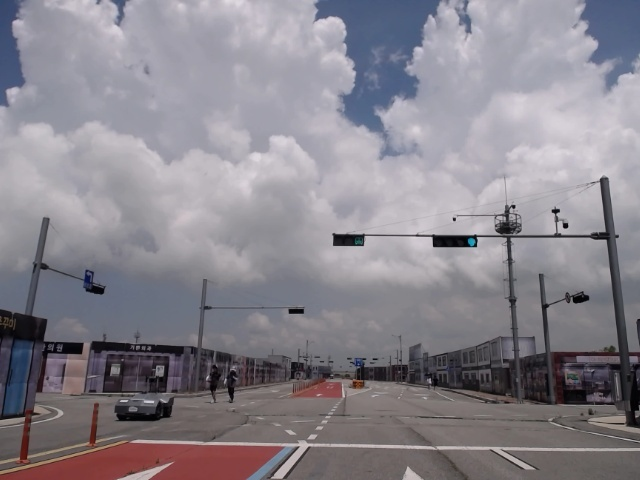straight_green_4: (432, 236, 477, 248)
